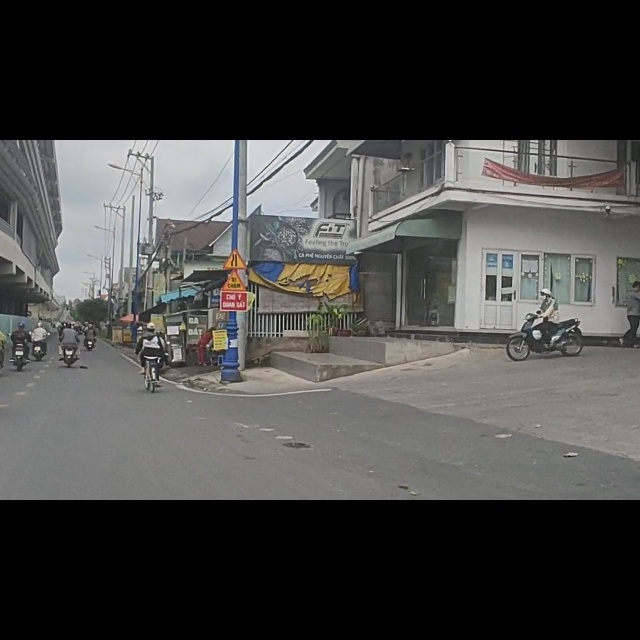Đi chậm: (218, 268, 250, 292)
Đường bị hẹp bên trái: (222, 248, 249, 270)
